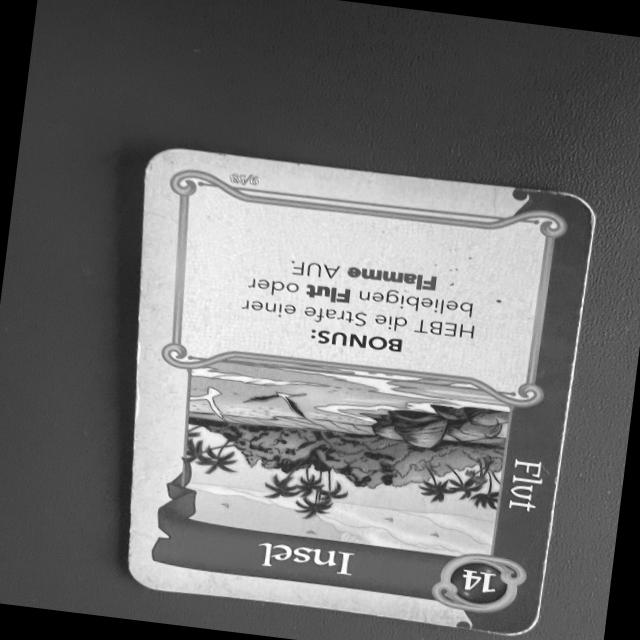Island: (123, 143, 602, 640)
